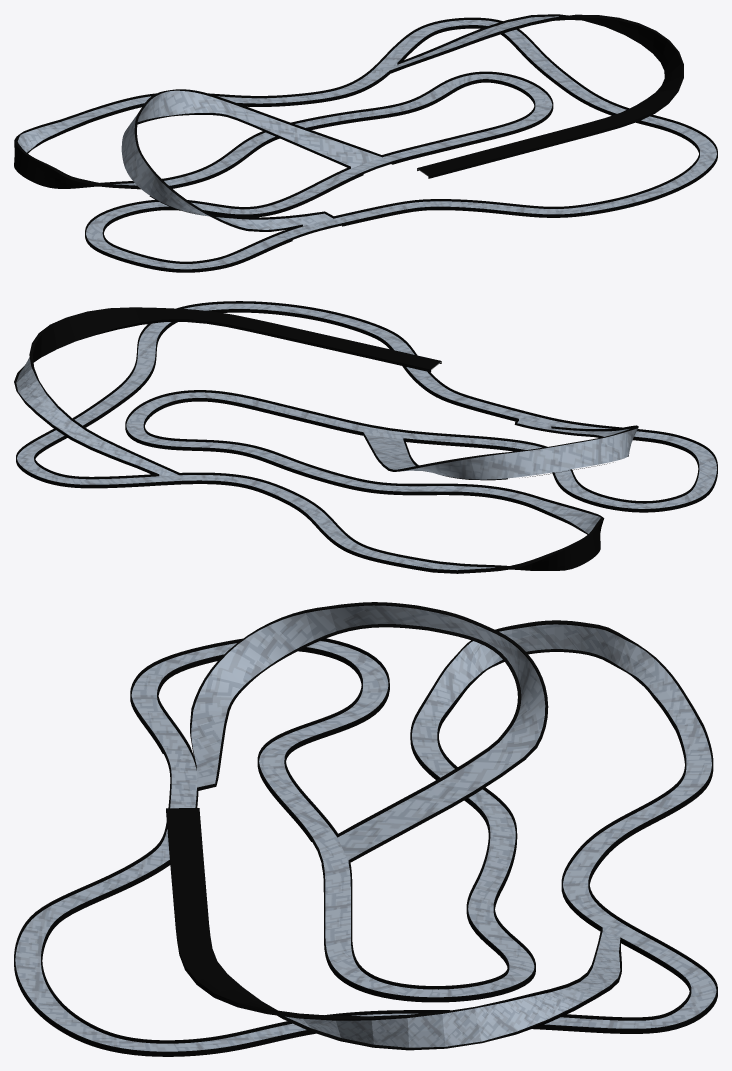
File: Track01_Complete_v6.fbx
The picture shows the model from 3 angles, top to bottom: view 1: azimuth 30°, elevation 25°; view 2: azimuth 150°, elevation 25°; view 3: azimuth 270°, elevation 25°; orthographic projection. The views are drawn at different scales.
Parts seen in each view (by area): view 1: Trackflat_01, Track_Flip_01, Track_Curve_05, Track_Flip_02, Track_Curve_04, Track_Flip_03, Trackflat_02, Track_Curve_03, Track_Curve_02, Track_Curve_01; view 2: Trackflat_01, Track_Flip_01, Track_Flip_02, Track_Curve_03, Track_Flip_03, Trackflat_02, Track_Curve_04, Track_Curve_05, Track_Curve_01; view 3: Trackflat_01, Track_Flip_02, Track_Flip_01, Track_Curve_05, Trackflat_02, Track_Curve_02, Track_Curve_03, Track_Curve_04, Track_Flip_03, Track_Curve_01.
Part boxes in pixels (x1=…): Trackflat_01: x1=23, y1=17, x2=717, y2=272; Track_Flip_01: x1=417, y1=89, x2=678, y2=178; Track_Curve_05: x1=227, y1=100, x2=382, y2=168; Track_Flip_02: x1=553, y1=14, x2=683, y2=91; Track_Curve_04: x1=137, y1=89, x2=227, y2=124; Track_Flip_03: x1=390, y1=14, x2=557, y2=73; Trackflat_02: x1=14, y1=131, x2=87, y2=188; Track_Curve_03: x1=121, y1=102, x2=157, y2=194; Track_Curve_02: x1=149, y1=175, x2=247, y2=230; Track_Curve_01: x1=240, y1=211, x2=333, y2=231; Trackflat_01: x1=16, y1=301, x2=717, y2=573; Track_Flip_01: x1=134, y1=307, x2=441, y2=372; Track_Flip_02: x1=14, y1=307, x2=140, y2=402; Track_Curve_03: x1=504, y1=430, x2=628, y2=478; Track_Flip_03: x1=24, y1=392, x2=179, y2=476; Trackflat_02: x1=521, y1=513, x2=604, y2=570; Track_Curve_04: x1=393, y1=452, x2=507, y2=480; Track_Curve_05: x1=363, y1=432, x2=418, y2=471; Track_Curve_01: x1=514, y1=419, x2=611, y2=436; Trackflat_01: x1=14, y1=638, x2=717, y2=1056; Track_Flip_02: x1=237, y1=989, x2=575, y2=1050; Track_Flip_01: x1=166, y1=808, x2=261, y2=1006; Track_Curve_05: x1=337, y1=739, x2=536, y2=862; Trackflat_02: x1=457, y1=620, x2=655, y2=680; Track_Curve_02: x1=191, y1=610, x2=315, y2=711; Track_Curve_03: x1=305, y1=602, x2=506, y2=660; Track_Curve_04: x1=496, y1=631, x2=548, y2=747; Track_Flip_03: x1=551, y1=927, x2=621, y2=1010; Track_Curve_01: x1=190, y1=708, x2=229, y2=790.
Size of the model in its own units: 14856 by 1543 by 10033.
Materials: 4 (1 with a texture image).
